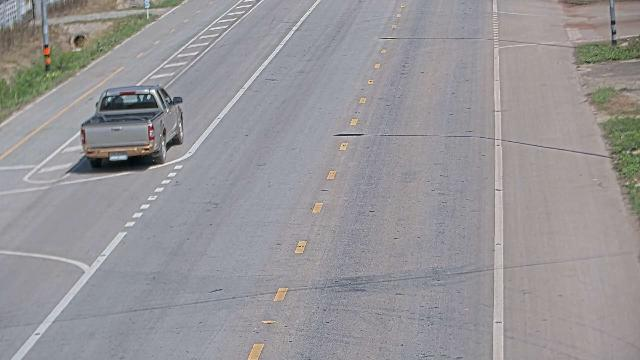pickup-truck: (79, 84, 184, 168)
